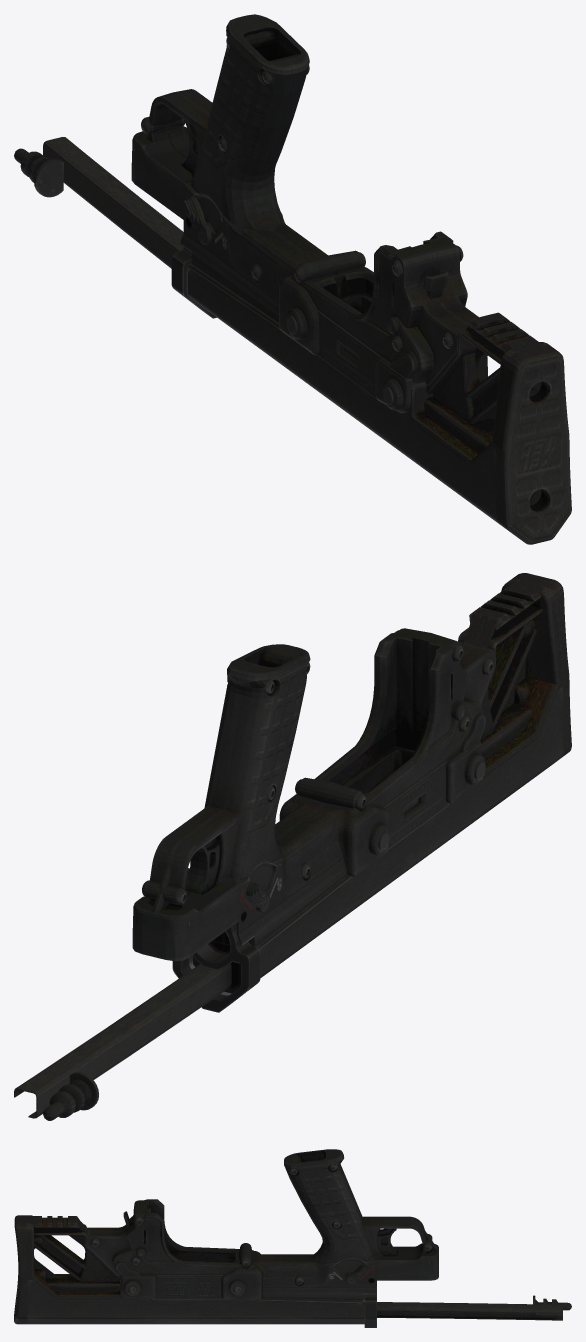
3 renders of one model, top to bottom at view 1: azimuth 30°, elevation 25°; view 2: azimuth 150°, elevation 25°; view 3: azimuth 270°, elevation 25°, orthographic. The views are drawn at different scales.
Parts seen in each view (by area): view 1: TW_5f2a9575926fd9352339381f_PZ_Import; view 2: TW_5f2a9575926fd9352339381f_PZ_Import; view 3: TW_5f2a9575926fd9352339381f_PZ_Import.
Part boxes in pixels (box(x1,y1,x2,y2)): TW_5f2a9575926fd9352339381f_PZ_Import: box(14, 14, 571, 544); TW_5f2a9575926fd9352339381f_PZ_Import: box(14, 573, 571, 1120); TW_5f2a9575926fd9352339381f_PZ_Import: box(14, 1149, 571, 1327).
Bounding box in the file's own units: 0.0327 × 0.3113 × 0.1062.
Materials: 1 (1 with a texture image).
